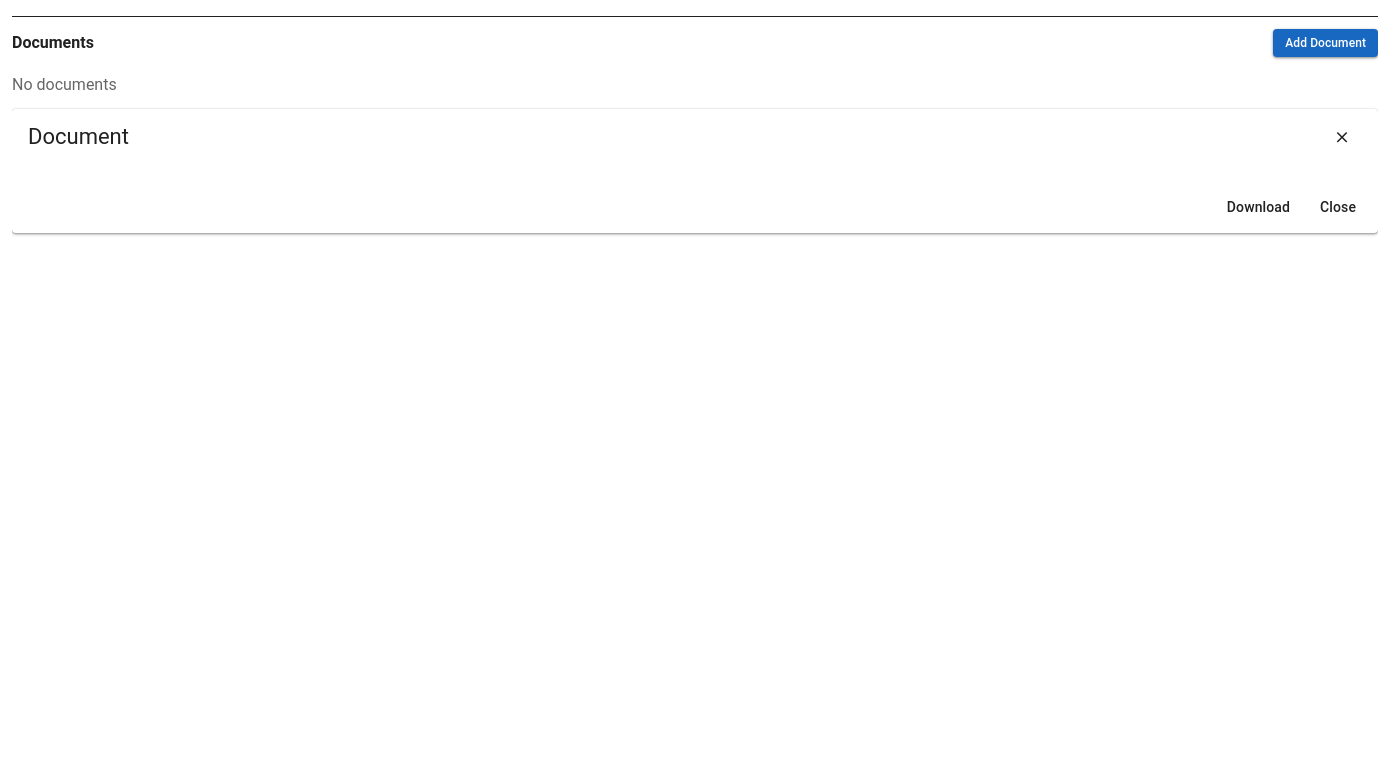
Test case: Feature 22 — Document number & instructions › Add document shows field errors when required fields are empty
Click the button "Add Document". click: (1326, 43)
box: [1273,29,1378,57]
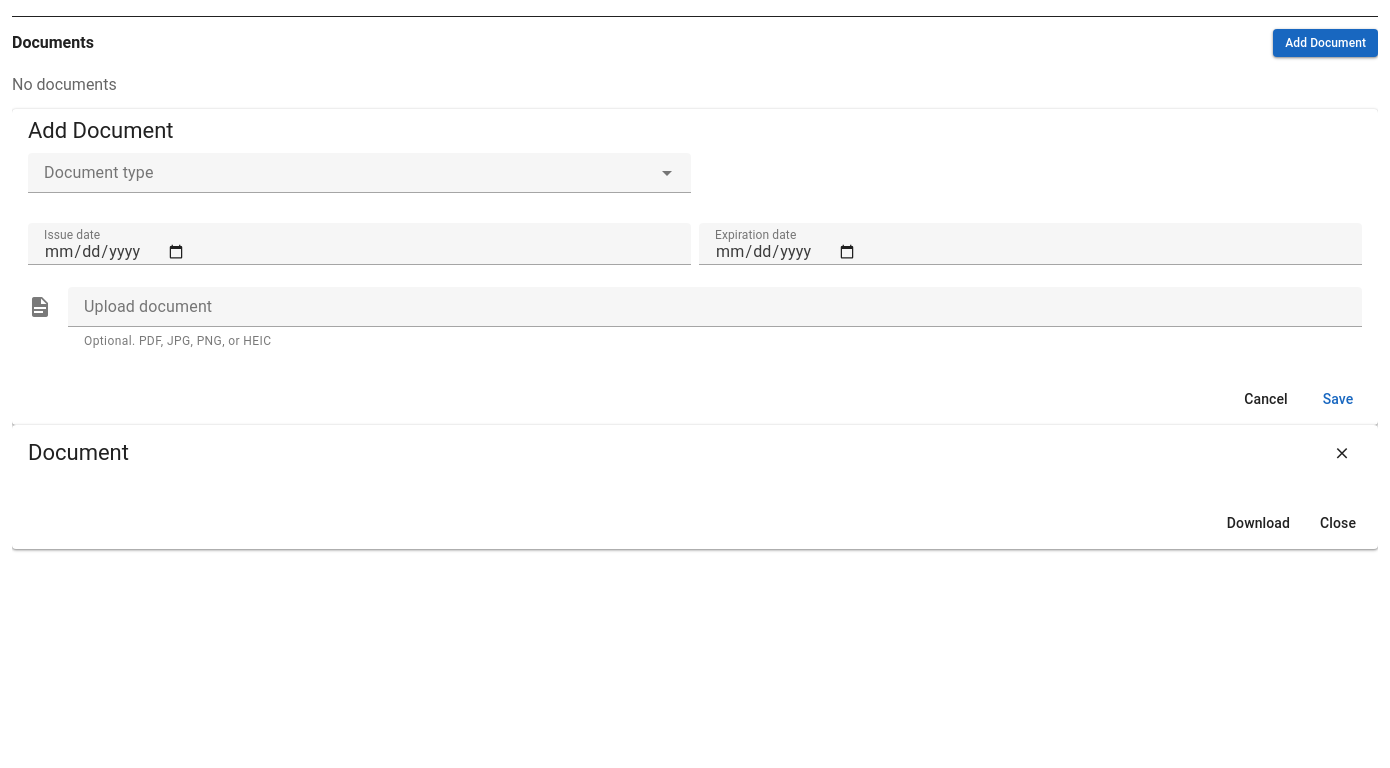
Expected: the button "Save" is shown
Click the button "Save". click: (1338, 399)
box: [1306,381,1370,417]
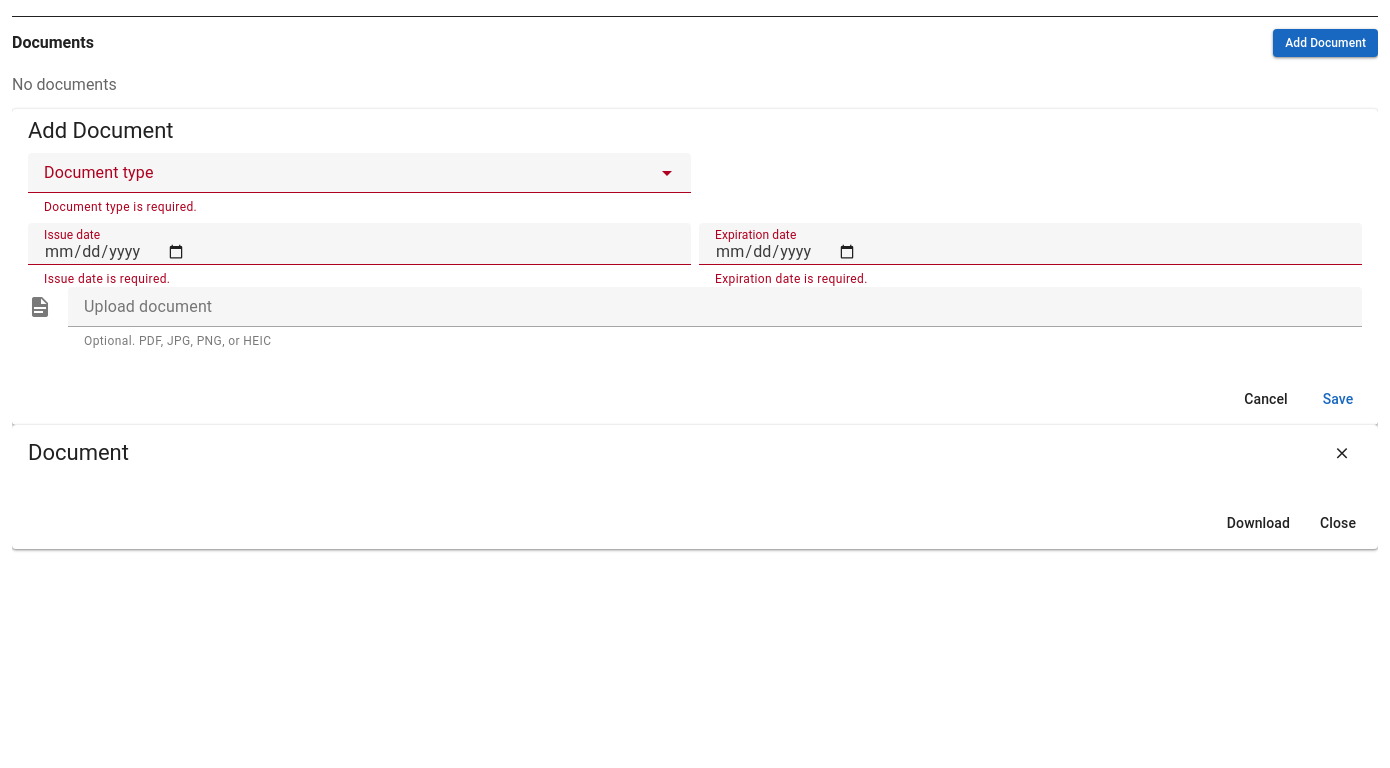
Expected: the text "Document type is required." is shown, [44,200,197,214]
Expected: the text "Issue date is required." is shown, [44,272,170,286]
Expected: the text "Expiration date is required." is shown, [715,272,868,286]
